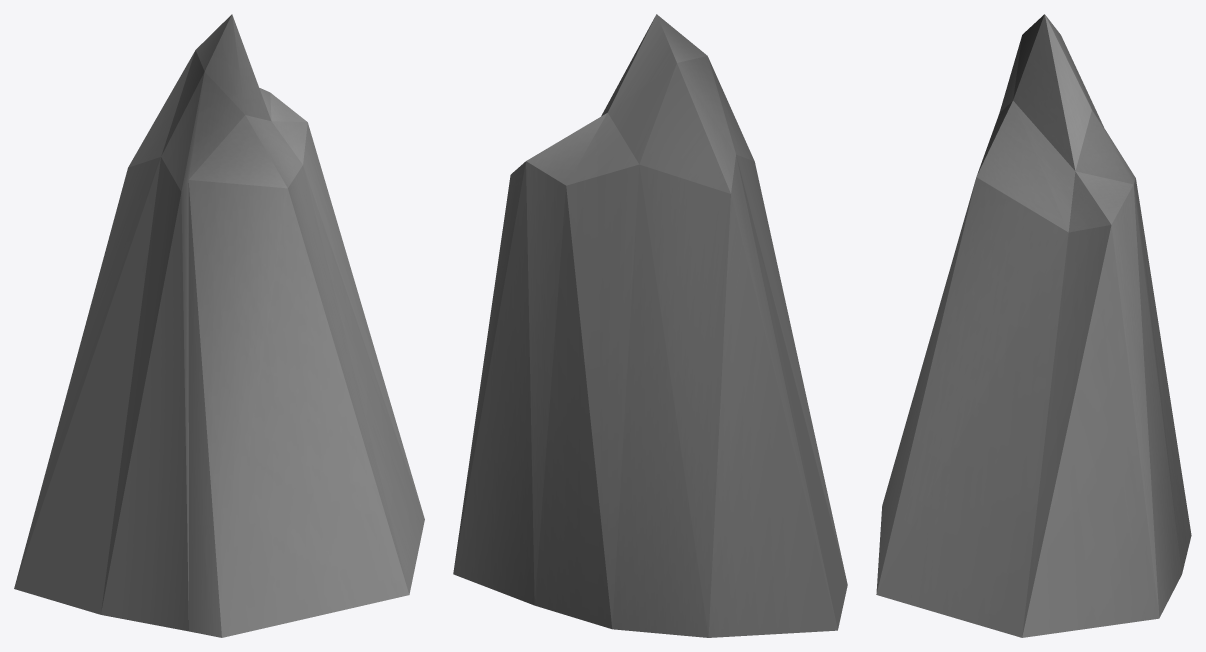
Rendered from rock.fbx.
3 renders of one model, left to right at view 1: azimuth 30°, elevation 25°; view 2: azimuth 150°, elevation 25°; view 3: azimuth 270°, elevation 25°, orthographic. The views are drawn at different scales.
Parts seen in each view (by area): view 1: Icosphere; view 2: Icosphere; view 3: Icosphere.
Boxes of the visible parts, x1,y1,x2,y2 form: Icosphere: (14,14,424,637); Icosphere: (453,14,847,637); Icosphere: (876,14,1191,637).
Bounding box in the file's own units: 870 × 1187 × 632.
Materials: 1 (1 with a texture image).
